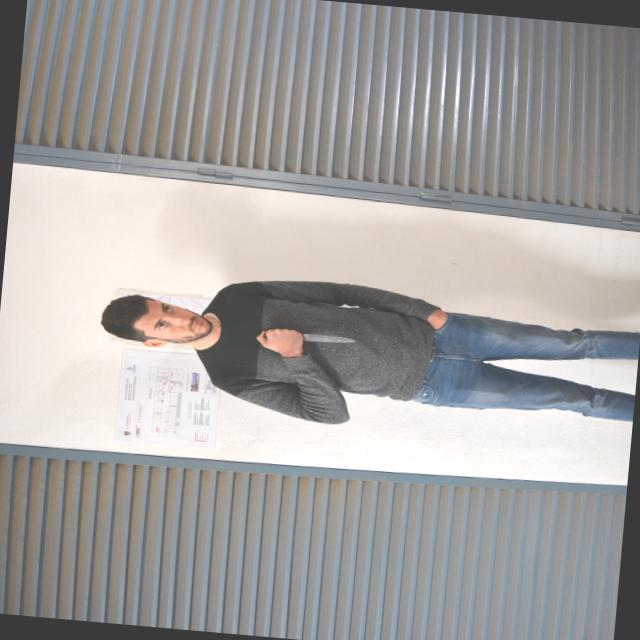knife: (252, 324, 358, 351)
